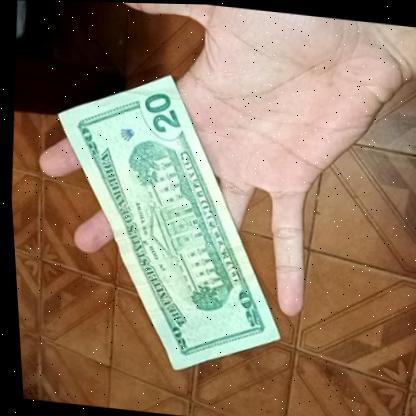twenty-back: (28, 60, 300, 382)
